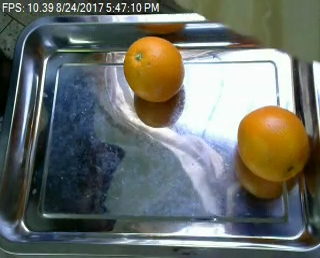Orange: (237, 104, 309, 181), (122, 37, 184, 104)
